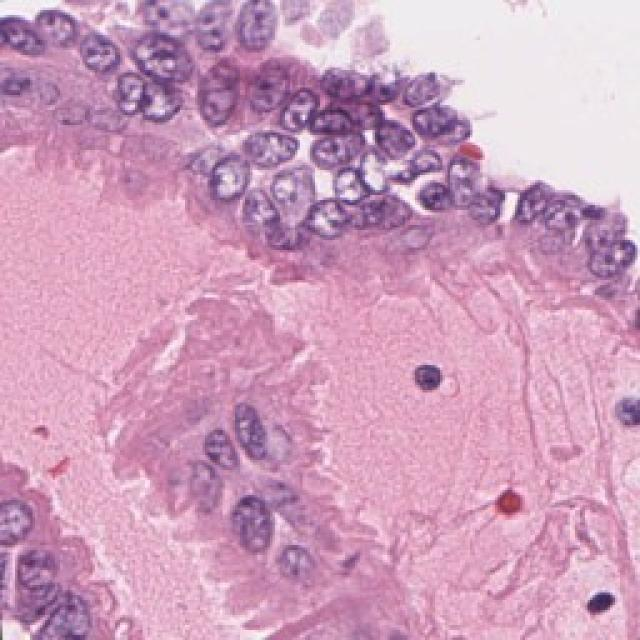abnormal: (402, 87, 493, 170), (220, 481, 300, 571), (198, 150, 267, 230), (580, 215, 640, 307), (2, 532, 75, 605), (195, 400, 250, 495), (236, 118, 312, 182), (343, 133, 407, 202), (294, 195, 369, 252), (230, 0, 287, 75), (137, 18, 193, 94), (275, 70, 330, 137), (68, 23, 125, 87), (35, 589, 107, 639), (30, 0, 77, 70), (520, 172, 570, 236), (0, 484, 35, 568)
